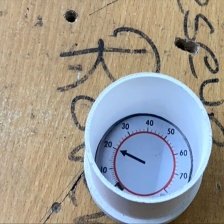gauge: (96, 114, 193, 196)
